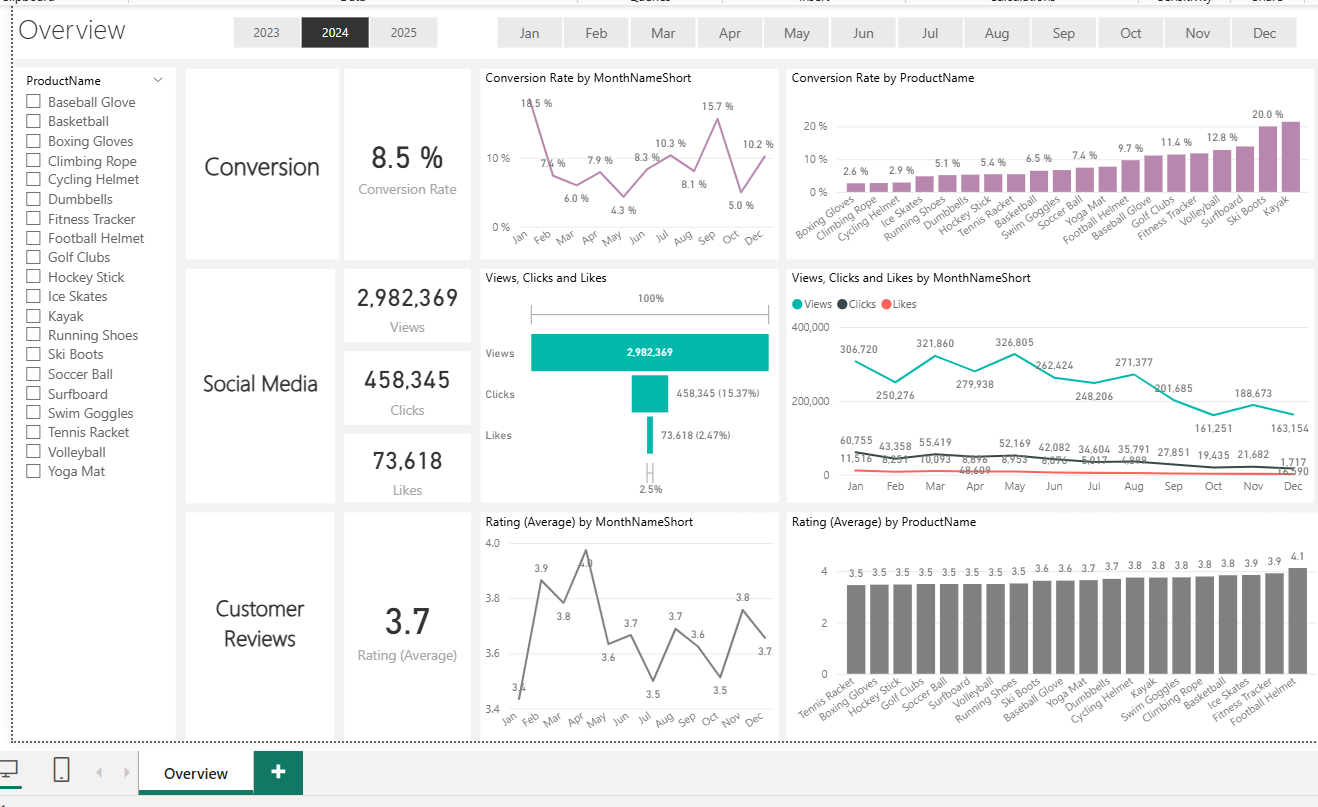

Layout of this report page (visuals, bound fields, positions):
{"tool":"powerbi","page":{"name":"Overview","canvas":[1280,720],"ordinal":0},"visuals":[{"type":"textbox","box":[0,0,1280,52.6],"z":0},{"type":"slicer","fields":{"Values":["dim_products.ProductName"]},"box":[0,61.6,159.5,658.5],"z":1000},{"type":"card","fields":{"Values":["_Calculations.Conversion Rate"]},"box":[324.1,61.9,123.9,186.8],"z":2000},{"type":"card","fields":{"Values":["_Calculations.Rating (Average)"]},"box":[324.1,496.5,123.9,224],"z":3000},{"type":"lineChart","fields":{"Y":["_Calculations.Conversion Rate"],"Category":["Calendar.MonthNameShort"]},"box":[457.1,61.9,292.3,186.7],"z":4000},{"type":"columnChart","fields":{"Category":["dim_products.ProductName"],"Y":["_Calculations.Conversion Rate"]},"box":[756.7,61.9,516.3,186.7],"z":5000},{"type":"slicer","fields":{"Values":["Calendar.Year"]},"box":[189.4,4.6,249.5,43.7],"z":6000},{"type":"slicer","fields":{"Values":["Calendar.MonthNameShort"]},"box":[448,4.6,832.3,43.7],"z":7000},{"type":"lineChart","fields":{"Y":["_Calculations.Views","_Calculations.Clicks","_Calculations.Likes"],"Category":["Calendar.MonthNameShort"]},"box":[756.6,258.1,516.1,229.2],"z":8000},{"type":"lineChart","fields":{"Category":["Calendar.MonthNameShort"],"Y":["_Calculations.Rating (Average)"]},"box":[457.1,496.3,292.3,224],"z":9000},{"type":"columnChart","fields":{"Category":["dim_products.ProductName"],"Y":["_Calculations.Rating (Average)"]},"box":[756.6,496.5,523.4,224],"z":10000},{"type":"funnel","fields":{"Y":["_Calculations.Views","_Calculations.Clicks","_Calculations.Likes"]},"box":[457.3,258.1,292.1,229.2],"z":11000},{"type":"card","fields":{"Values":["_Calculations.Views"]},"box":[324.2,257.7,123.8,71.9],"z":12000},{"type":"textbox","box":[168.5,61.9,150.3,186.7],"z":13000},{"type":"textbox","box":[168.5,257.7,146.6,229.5],"z":14000},{"type":"textbox","box":[168.5,496.3,145.7,224],"z":15000},{"type":"card","fields":{"Values":["_Calculations.Clicks"]},"box":[324.2,338.8,123.8,71.9],"z":16000},{"type":"card","fields":{"Values":["_Calculations.Likes"]},"box":[324.2,419.8,123.8,67.4],"z":17000}]}

Visuals, with their boxes on the page's 1280x720 design canvas (x1, y1, x2, y2). These are canvas units, not pixel positions in the 1318x807 screenshot, which may show the page scaled, cropped or inside an application window:
textbox: [0,0,1280,53]
slicer - dim_products.ProductName: [0,62,160,720]
card - _Calculations.Conversion Rate: [324,62,448,249]
card - _Calculations.Rating (Average): [324,496,448,720]
lineChart - _Calculations.Conversion Rate x Calendar.MonthNameShort: [457,62,749,249]
columnChart - dim_products.ProductName x _Calculations.Conversion Rate: [757,62,1273,249]
slicer - Calendar.Year: [189,5,439,48]
slicer - Calendar.MonthNameShort: [448,5,1280,48]
lineChart - _Calculations.Views x _Calculations.Clicks: [757,258,1273,487]
lineChart - Calendar.MonthNameShort x _Calculations.Rating (Average): [457,496,749,720]
columnChart - dim_products.ProductName x _Calculations.Rating (Average): [757,496,1280,720]
funnel - _Calculations.Views x _Calculations.Clicks: [457,258,749,487]
card - _Calculations.Views: [324,258,448,330]
textbox: [168,62,319,249]
textbox: [168,258,315,487]
textbox: [168,496,314,720]
card - _Calculations.Clicks: [324,339,448,411]
card - _Calculations.Likes: [324,420,448,487]
